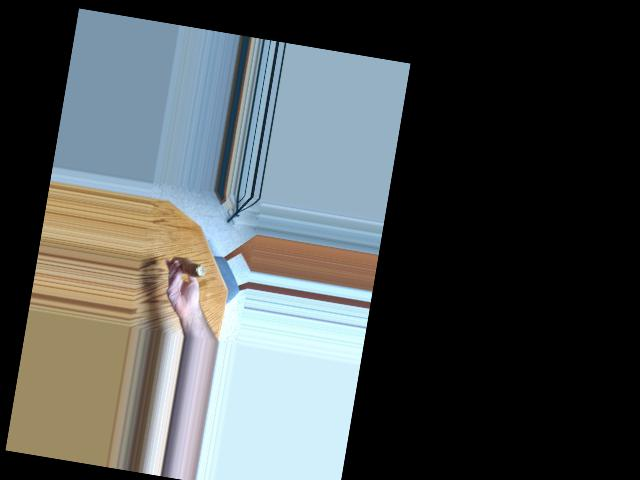sweet_potato: (166, 253, 212, 288)
